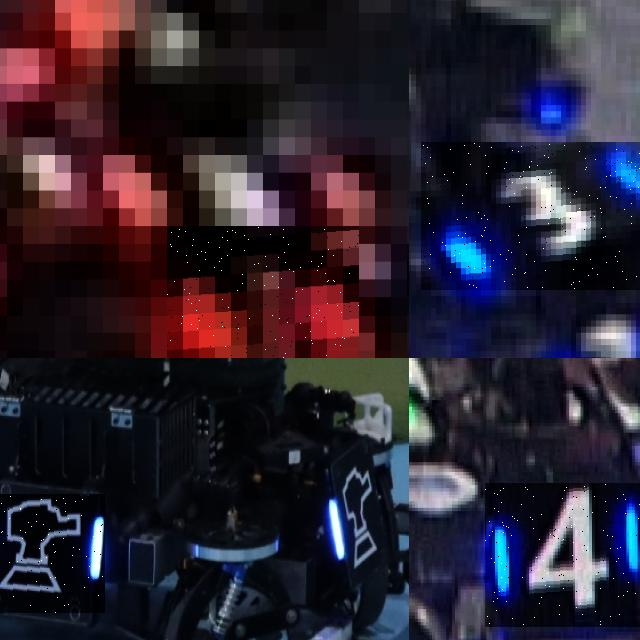B3: (421, 142, 640, 289), (531, 305, 640, 358)
B4: (485, 483, 640, 626)
Bs: (0, 494, 104, 614), (326, 457, 387, 568)
R3: (167, 226, 359, 358)
